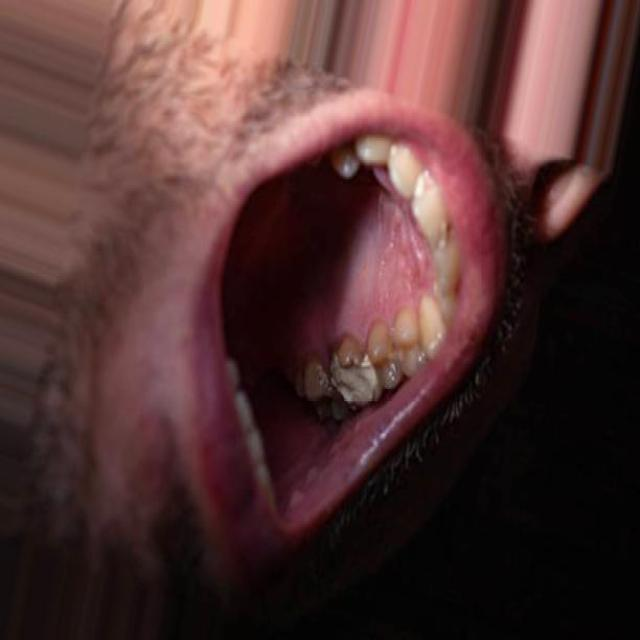caries: (329, 347, 387, 416)
